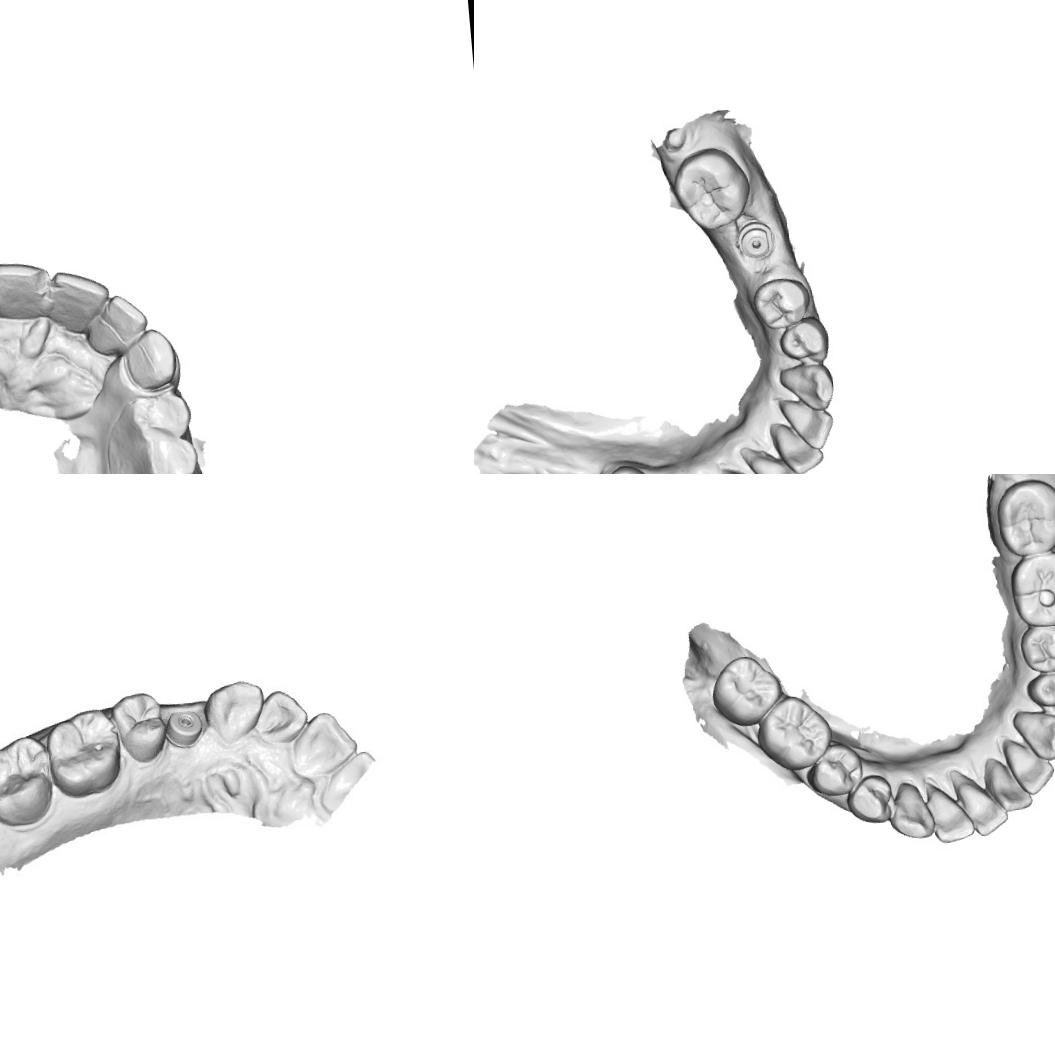canine: (202, 676, 265, 743), (775, 356, 838, 414), (886, 778, 936, 845), (120, 328, 174, 386), (1009, 703, 1055, 764)
implant: (732, 218, 778, 262), (164, 706, 206, 749)
incisor: (280, 708, 361, 778), (45, 261, 109, 336), (85, 289, 150, 352), (955, 770, 1012, 838), (0, 256, 51, 325), (252, 686, 311, 744), (1000, 735, 1055, 797), (980, 754, 1034, 816), (927, 779, 977, 844), (767, 417, 824, 474), (778, 396, 834, 453), (745, 440, 808, 474)
molar: (40, 707, 124, 802), (667, 142, 753, 234), (750, 689, 834, 774), (708, 651, 782, 728), (989, 474, 1055, 559), (0, 732, 56, 828), (1006, 547, 1055, 630)
premolar: (108, 688, 170, 764), (130, 384, 198, 445), (841, 764, 897, 832), (750, 271, 810, 334), (802, 742, 863, 800), (134, 425, 203, 474), (774, 312, 832, 368), (1016, 618, 1055, 678), (1022, 666, 1055, 721), (596, 460, 657, 474)
